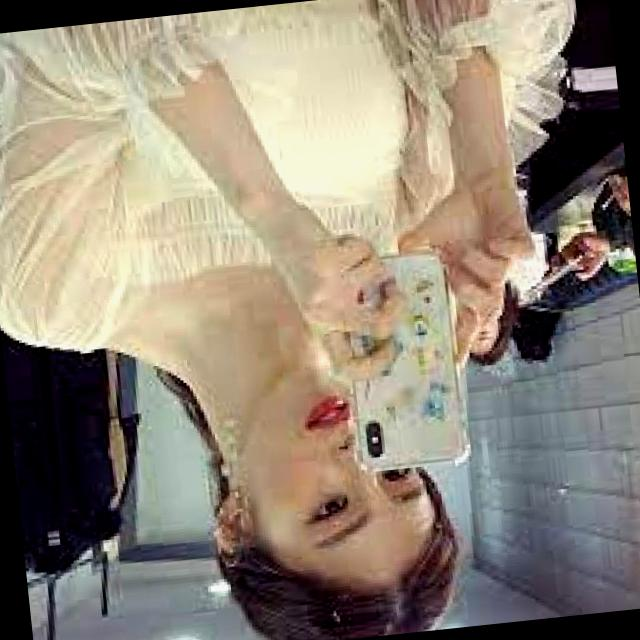lens_back: (366, 441, 382, 456), (364, 420, 379, 436)
phone: (333, 243, 471, 476)
